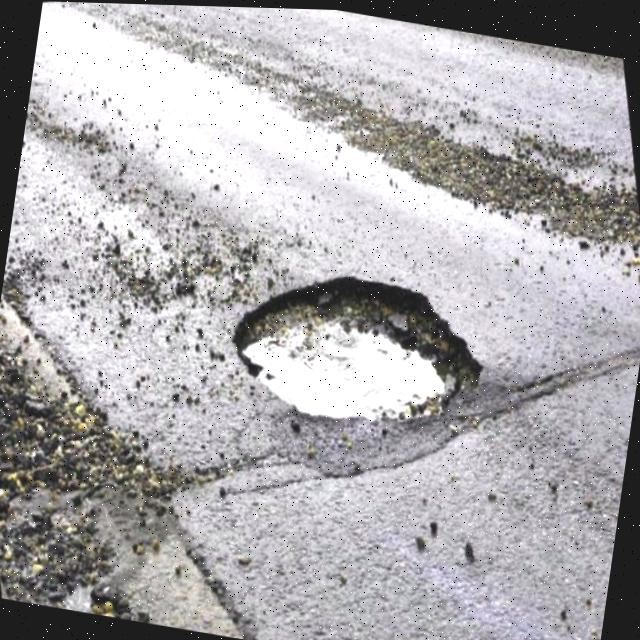Pothole: (192, 208, 518, 489)
